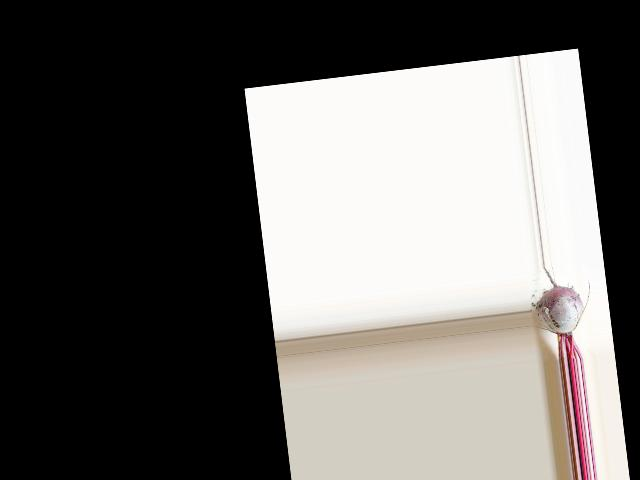beet: (531, 261, 598, 362)
